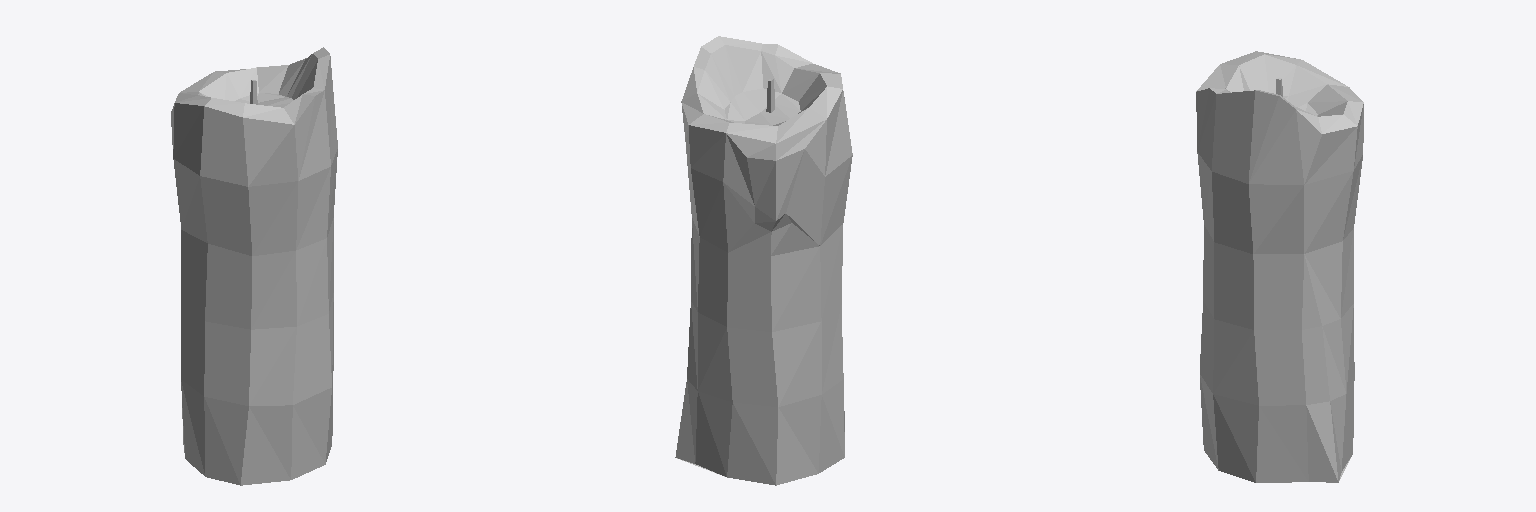
The model's file is Candle_2.obj.
3 renders of one model, left to right at view 1: azimuth 30°, elevation 25°; view 2: azimuth 150°, elevation 25°; view 3: azimuth 270°, elevation 25°, orthographic.
Visible parts, largest first — view 1: Candle_2_Cylinder.048; view 2: Candle_2_Cylinder.048; view 3: Candle_2_Cylinder.048.
Part boxes in pixels (x1,y1,x2,y2): Candle_2_Cylinder.048: (171, 47, 337, 485); Candle_2_Cylinder.048: (675, 36, 852, 485); Candle_2_Cylinder.048: (1196, 51, 1363, 482).
Size of the model in its own units: 0.0944 by 0.2511 by 0.0975.